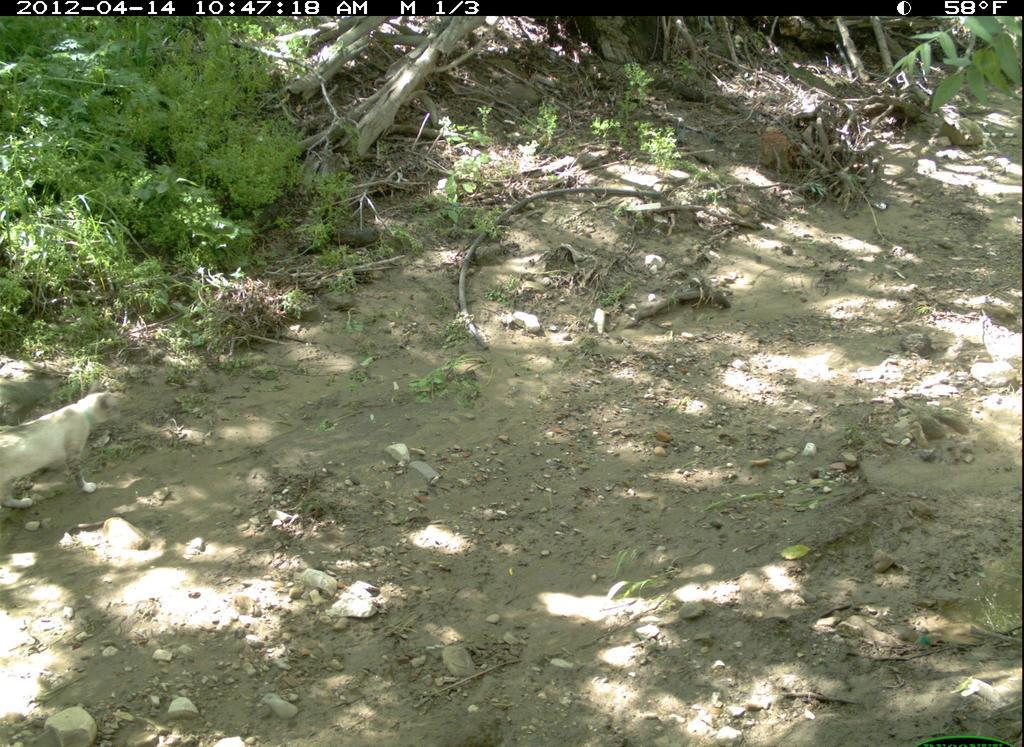cat: (2, 385, 146, 513)
